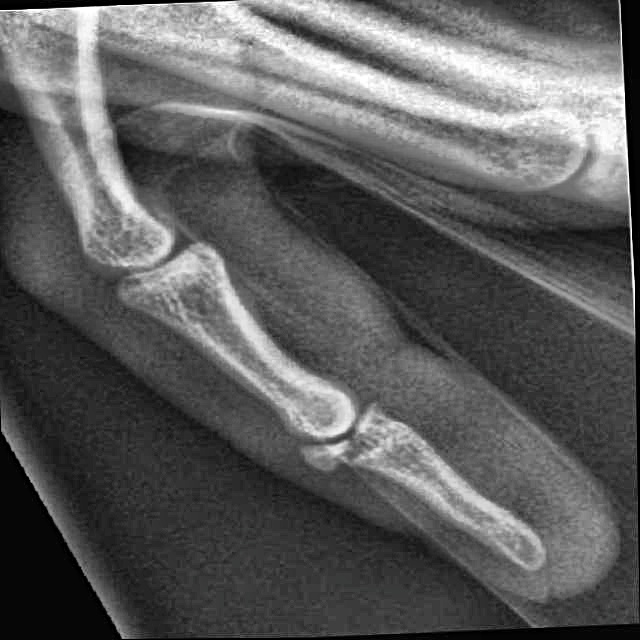Greenstick: (289, 408, 398, 483)
